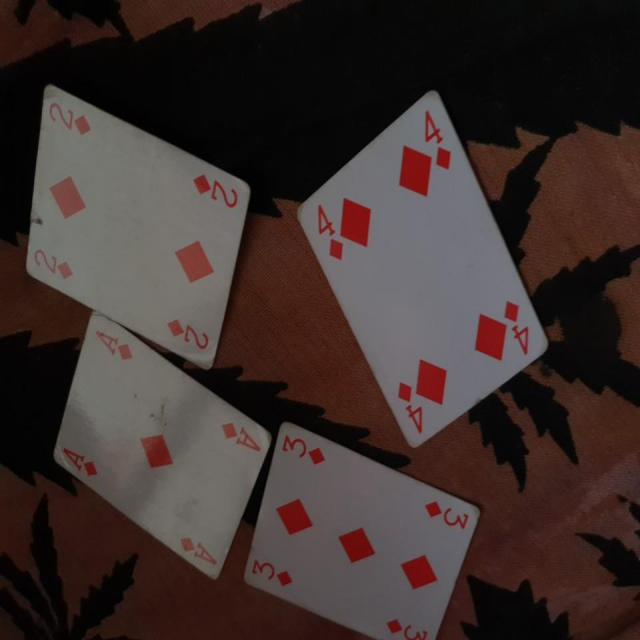2 Diamonds: (24, 69, 252, 367)
3 Diamonds: (240, 421, 486, 640)
4 Diamonds: (295, 91, 548, 452)
A Diamonds: (40, 304, 278, 591)
